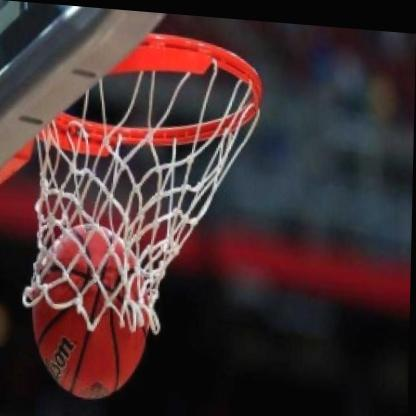basketball: (36, 218, 153, 398)
rim: (41, 24, 257, 339)
